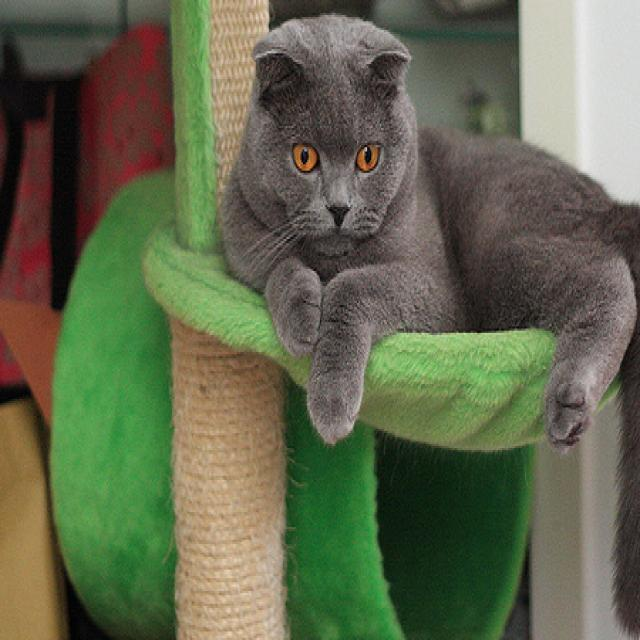British Shorthair: (216, 6, 640, 640)
